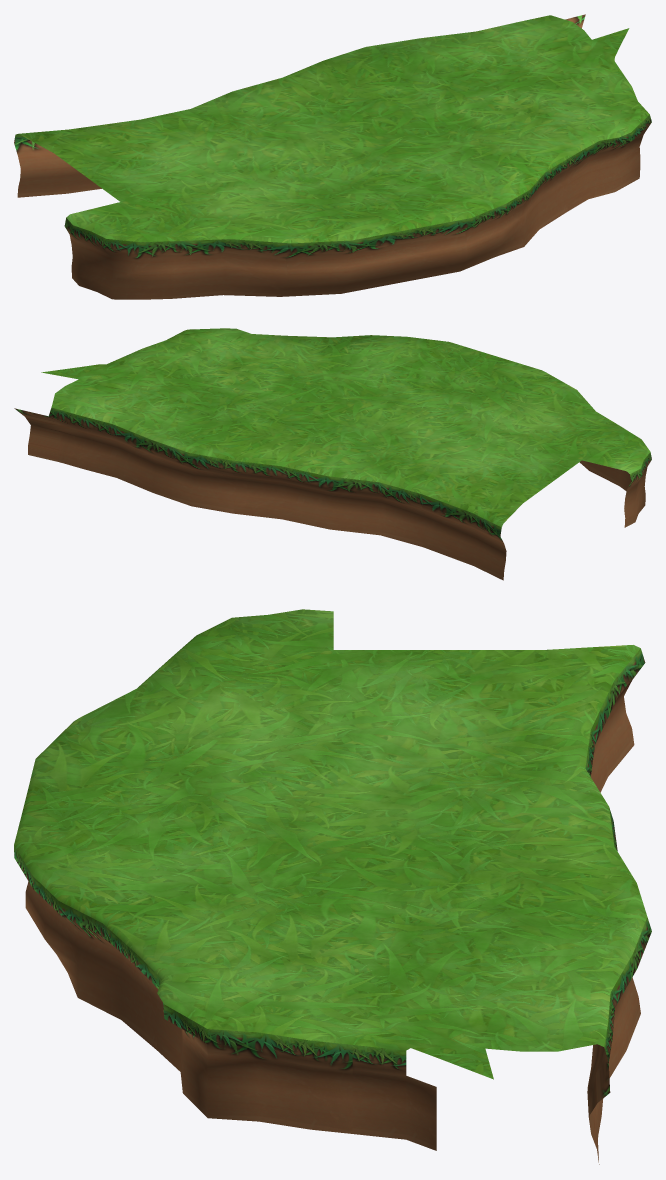
Rendered from lvl1_plat001.FBX.
3 renders of one model, top to bottom at view 1: azimuth 30°, elevation 25°; view 2: azimuth 150°, elevation 25°; view 3: azimuth 270°, elevation 25°, orthographic. The views are drawn at different scales.
Visible parts, largest first — view 1: lvl1_plat001_grass, lvl1_plat001; view 2: lvl1_plat001_grass, lvl1_plat001; view 3: lvl1_plat001_grass, lvl1_plat001.
Part boxes in pixels (x1=…): lvl1_plat001_grass: x1=16, y1=15, x2=649, y2=243; lvl1_plat001: x1=14, y1=14, x2=651, y2=299; lvl1_plat001_grass: x1=41, y1=328, x2=650, y2=527; lvl1_plat001: x1=14, y1=407, x2=651, y2=580; lvl1_plat001_grass: x1=14, y1=609, x2=647, y2=1079; lvl1_plat001: x1=14, y1=648, x2=651, y2=1164.
Size of the model in its own units: 1762 by 175 by 1001.
